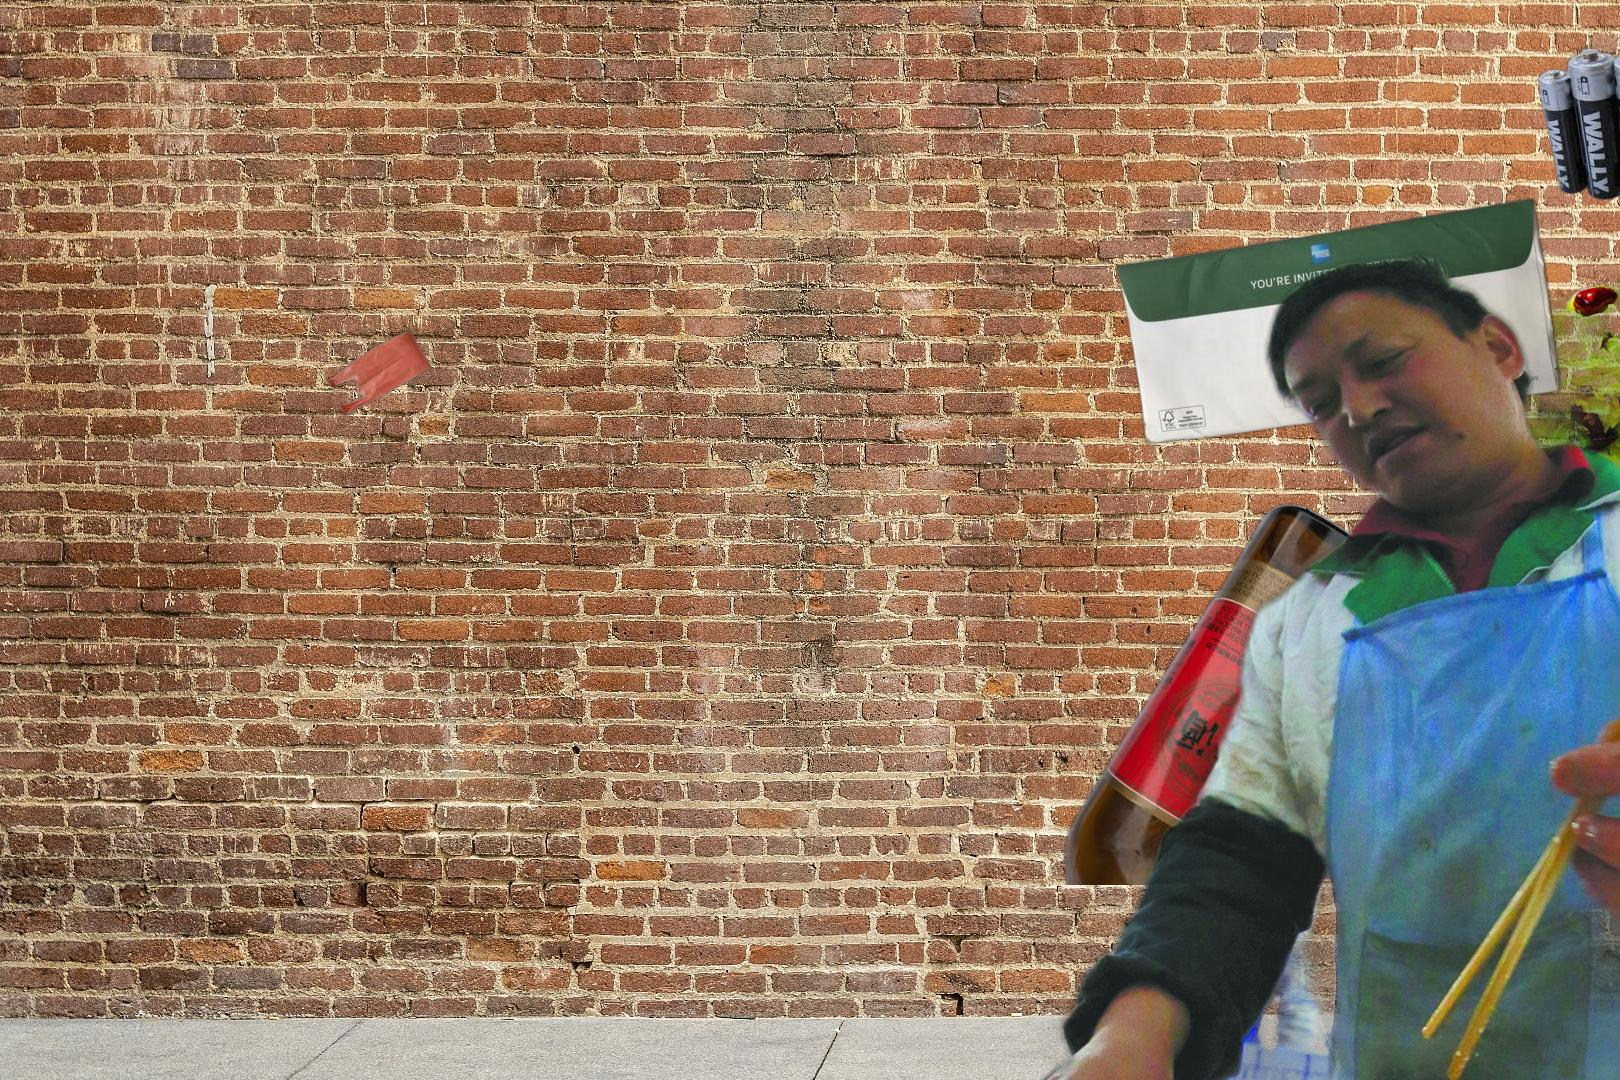battery: (1536, 42, 1620, 210)
biological: (632, 240, 1620, 1080), (1430, 270, 1620, 540)
glass: (1061, 501, 1389, 885)
paper: (1111, 195, 1566, 448)
plastic-bag: (325, 328, 435, 419)
